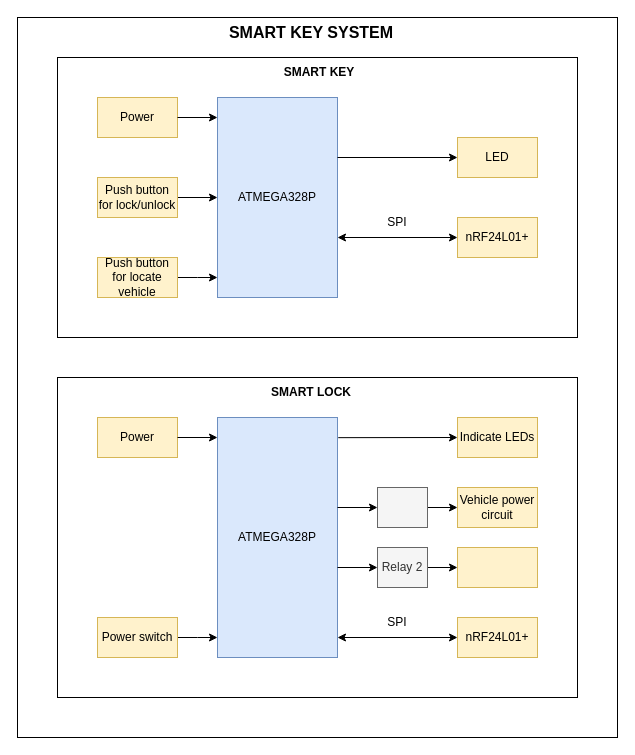
Some shapes in this 635 by 755 pixel diagram are drawn without their labels. The centre of each missing label's shape, as x and y in pixels:
"Relay 1" goes at (x=402, y=507).
"Vehicle lights/horn" goes at (x=497, y=567).
